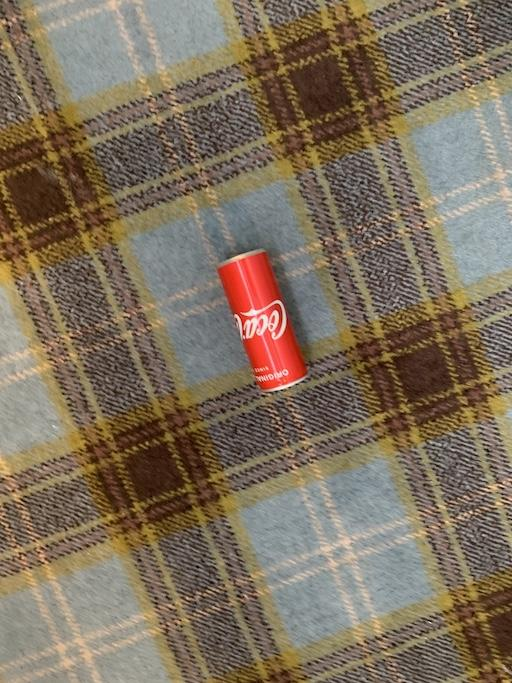Aluminum can: (216, 246, 353, 397)
